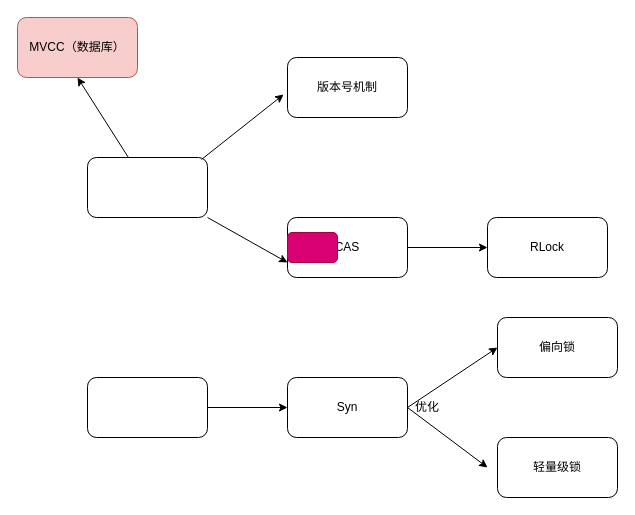
Image size: 635x515. Some labels were removed from this diagram. The shapes that lost their labels are listed below. From the top down, each one's centre as x and y in pixels, then its label:
At [147,187]: "乐观锁".
At [312,247]: "自旋？".
At [147,407]: "悲观锁".
